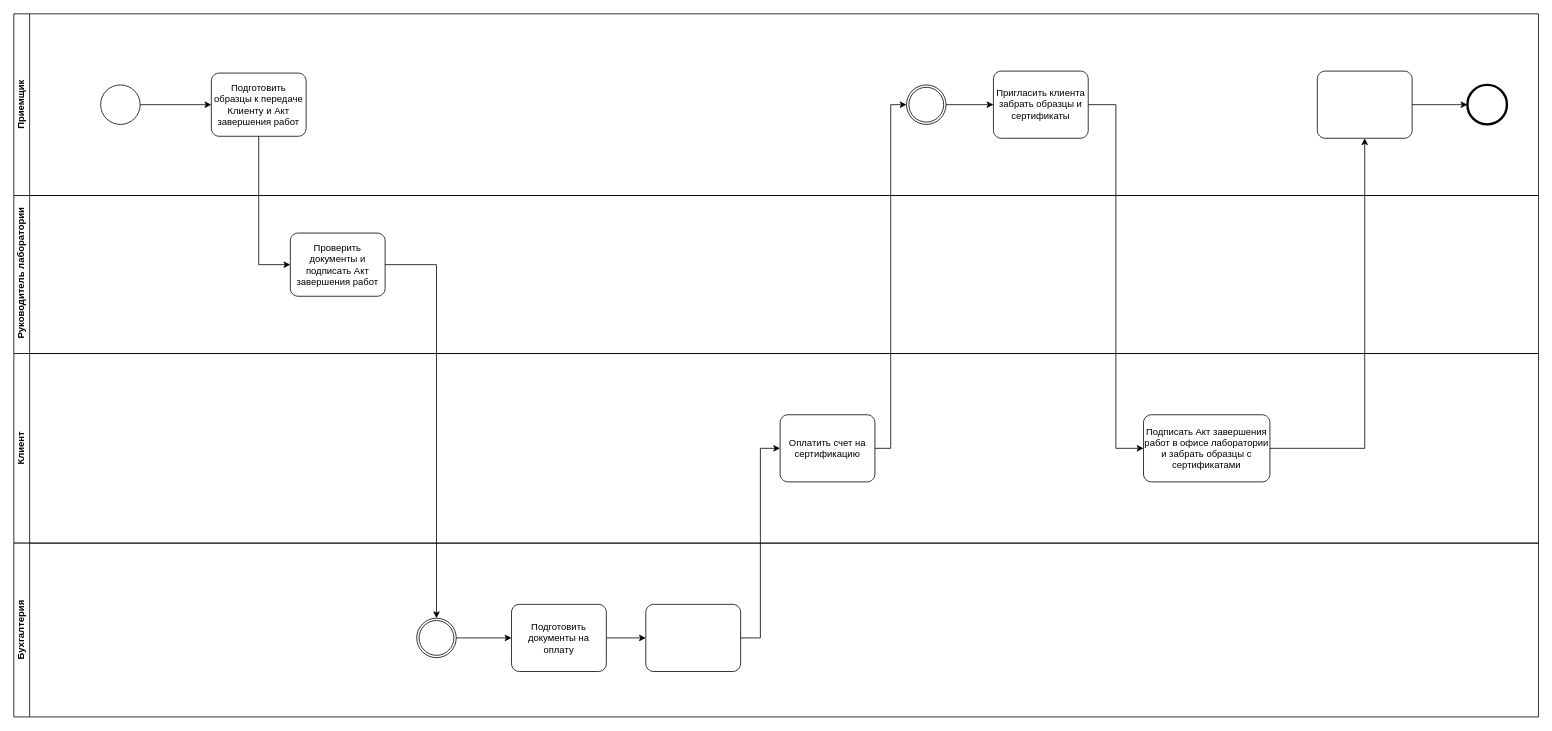
Image size: 1552x731. Some labels were removed from this diagram. The box of each missing label's shape, as (x1, y1, x2, y2) in pixels:
Выслать клиенту: (645, 604, 741, 672)
Закрыть заявку в системе сертификации: (1317, 70, 1412, 138)
Сертификационные документы напечатаны для всех образцов: (100, 84, 140, 124)
Сертификация завершена: (1467, 84, 1507, 124)
Сертификация по заявке завершена, нужны документы на оплату: (416, 617, 456, 658)
